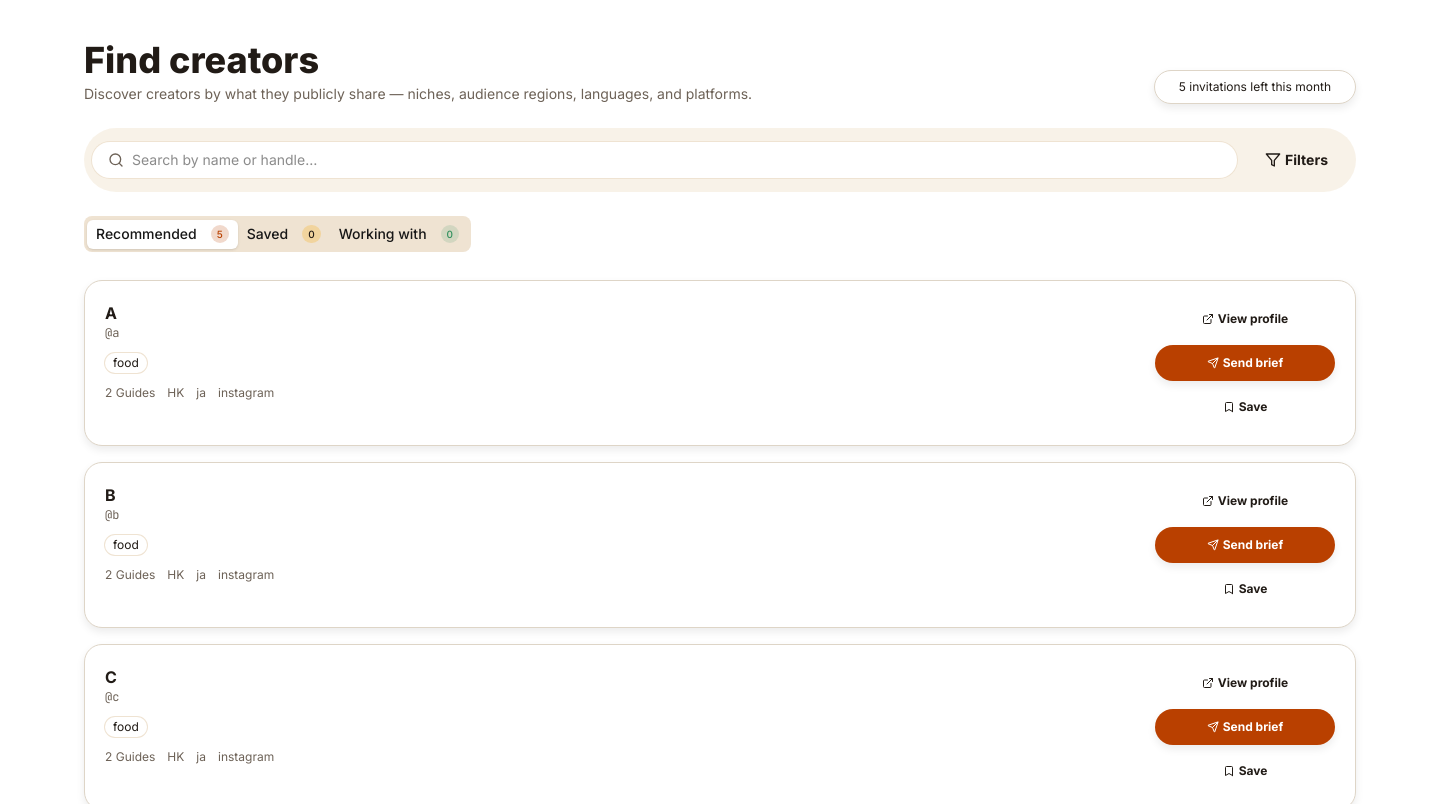
MerchantsCreatorsView › a failed invite surfaces the action error in an alert region
Click the 1st button "Send brief": (1245, 363) [1155,345,1335,381]
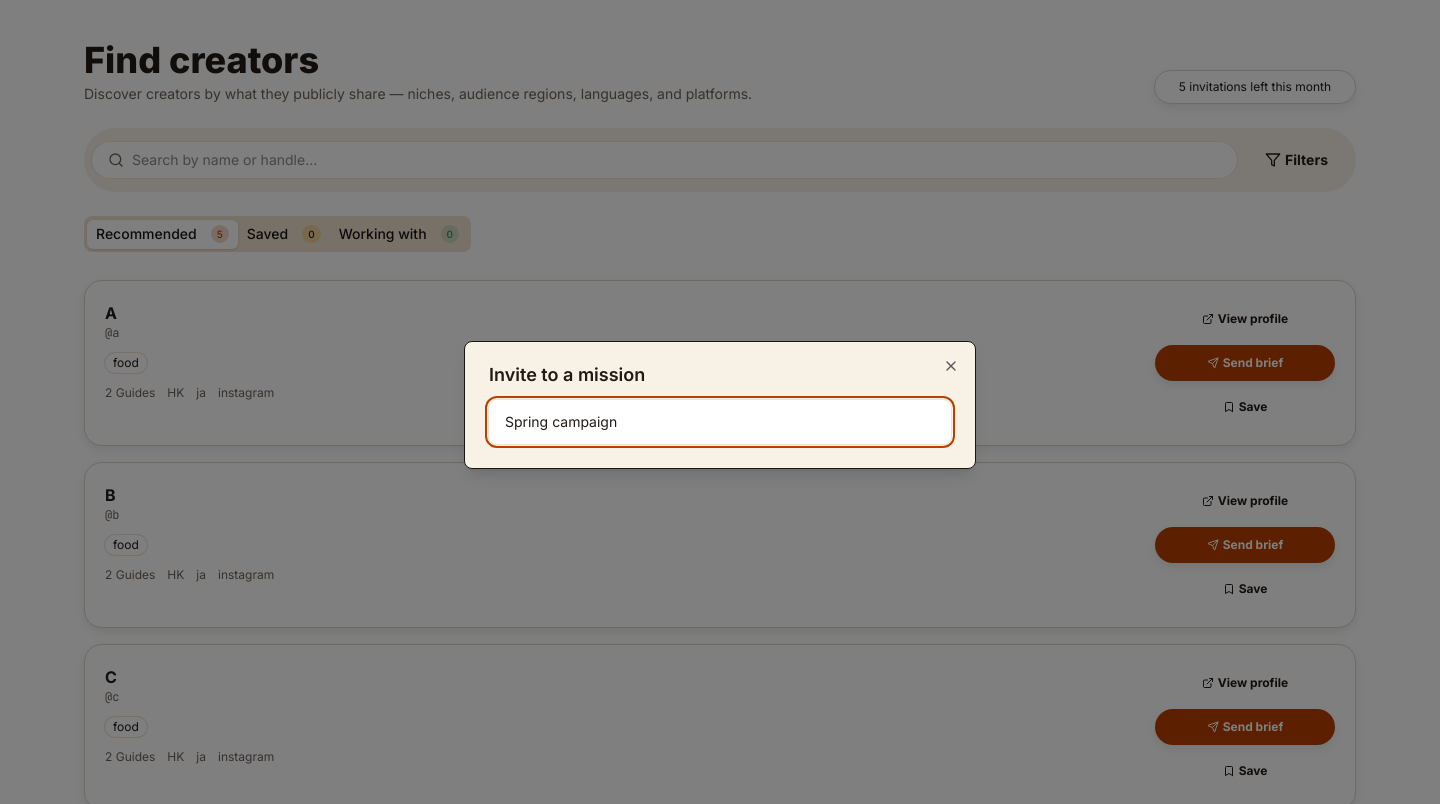
Click the button "Spring campaign": (561, 422) [489,400,951,444]
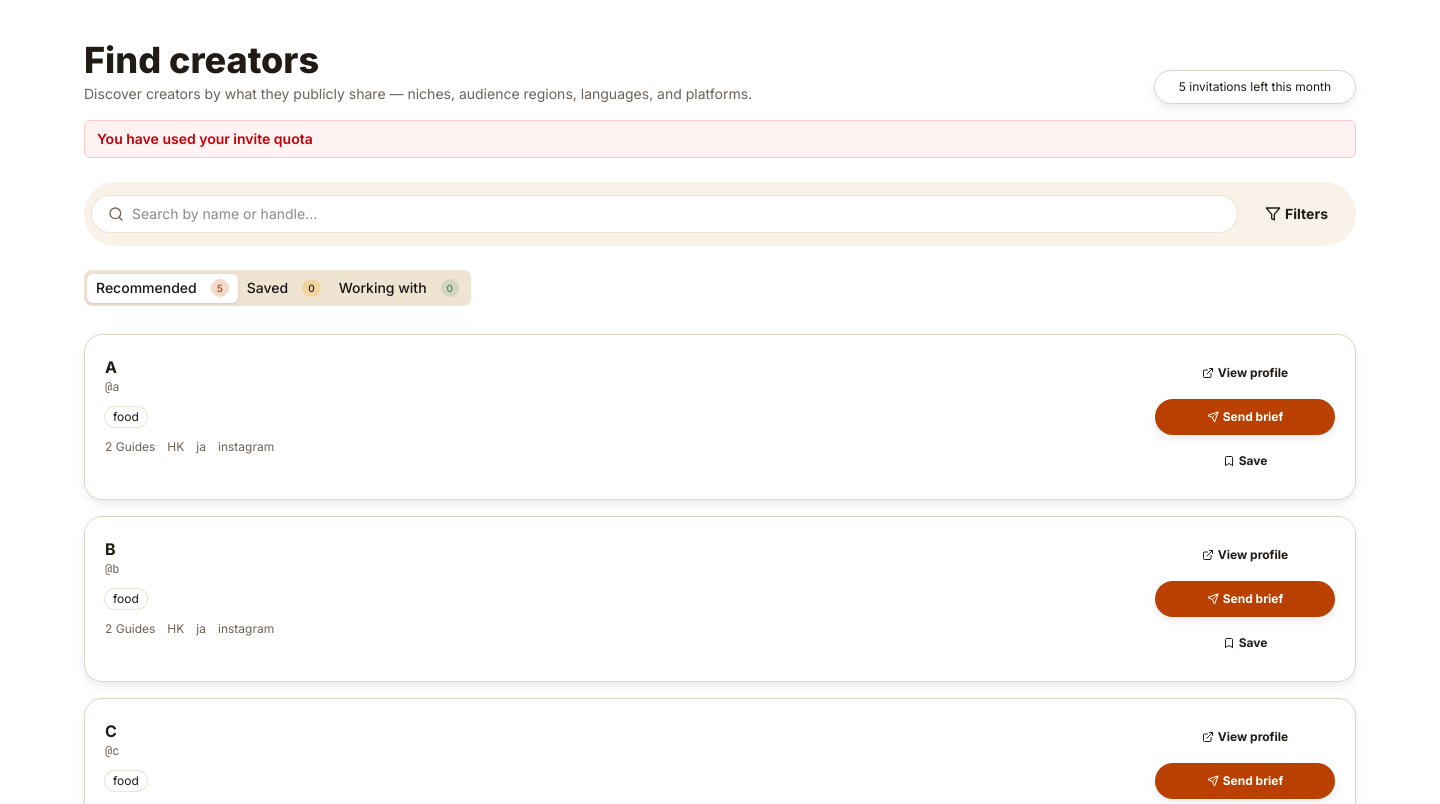
Check: the message reads "You have used your invite quota", box [97,130,313,147]
